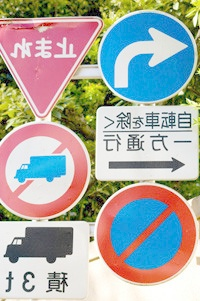Prohibition_sign: (89, 181, 191, 290)
